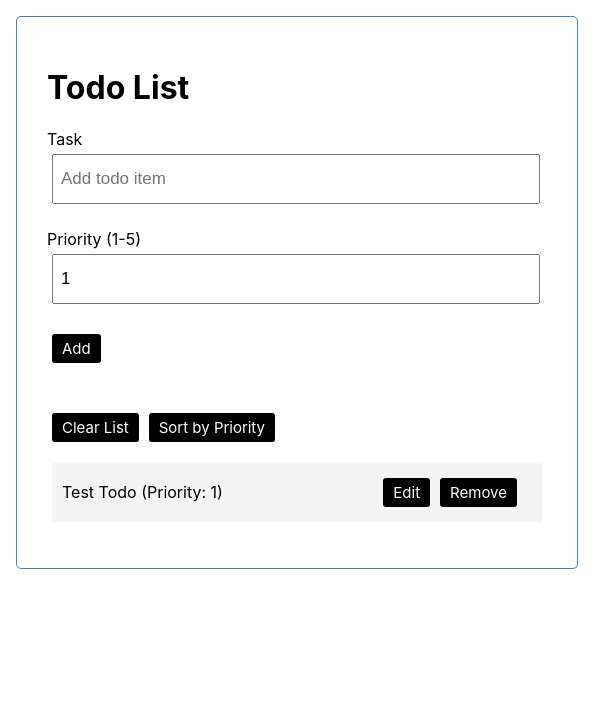
Test: App Component › clears the entire todo list
Type "First Todo" into the field with test id "task-title" at (296, 179), box [52, 154, 540, 204]
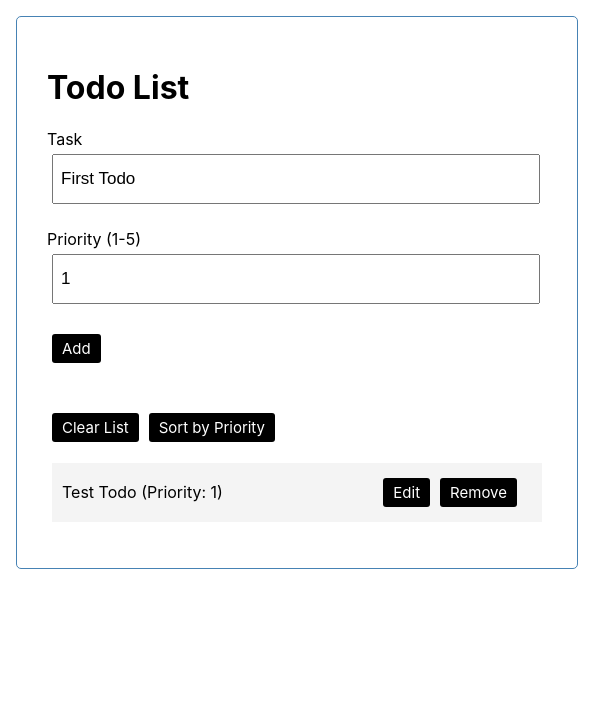
Click the button "Add" at (76, 348), box [52, 334, 101, 363]
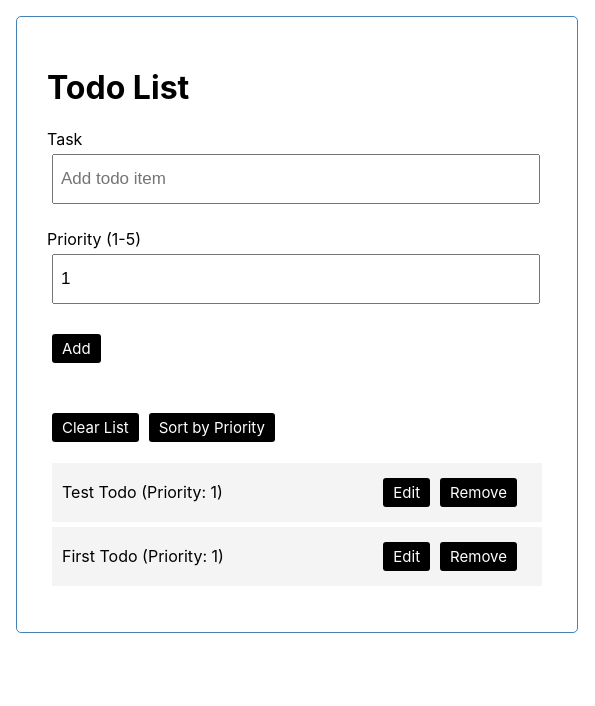
Type "Second Todo" into the field with test id "task-title" at (296, 179), box [52, 154, 540, 204]
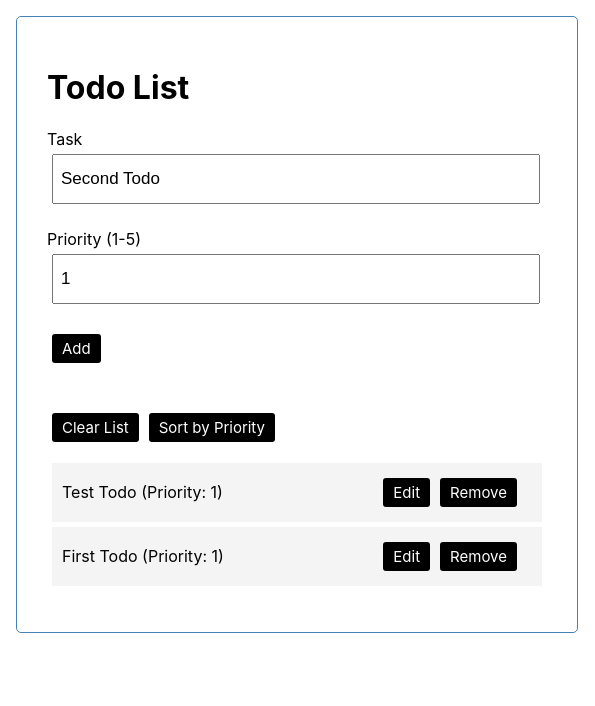
Click the button "Add" at (76, 348), box [52, 334, 101, 363]
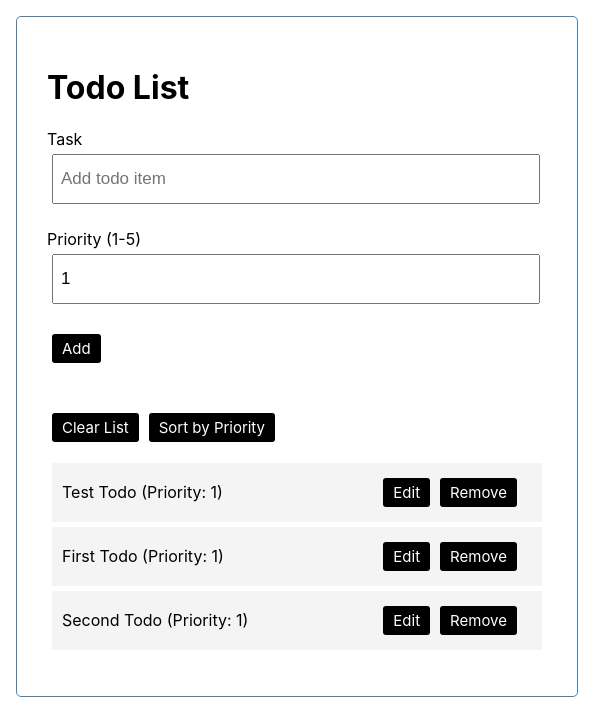
Clear the list
Click the button "Clear List" at (95, 427), box [52, 413, 139, 442]
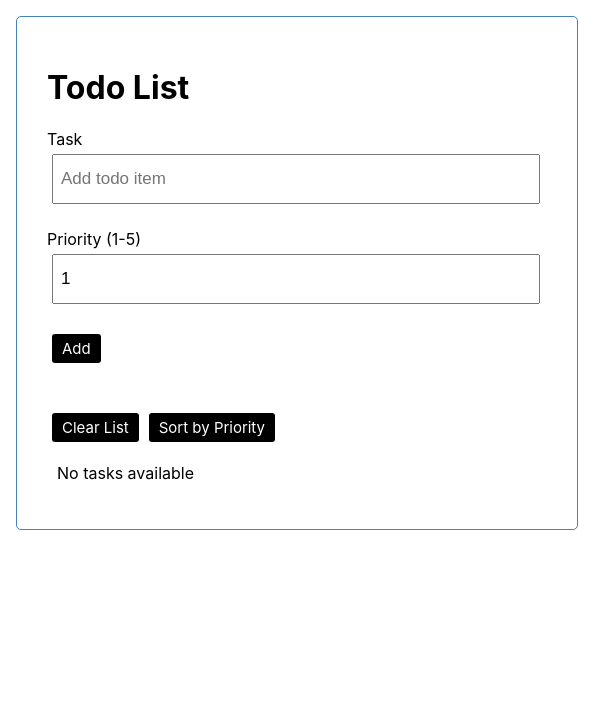
Expected: the text "First Todo" is gone
Expected: the text "Second Todo" is gone
